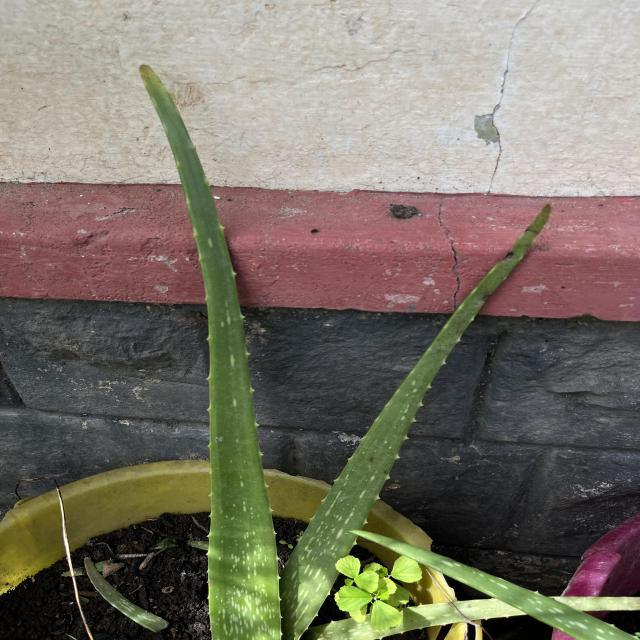Aloe vera: (128, 61, 288, 640)
